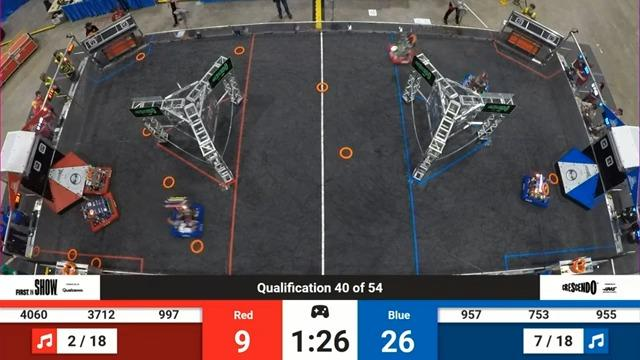robot: (162, 194, 207, 243), (79, 192, 123, 234), (519, 169, 553, 208), (385, 32, 419, 67), (81, 162, 113, 197), (460, 68, 496, 99)
